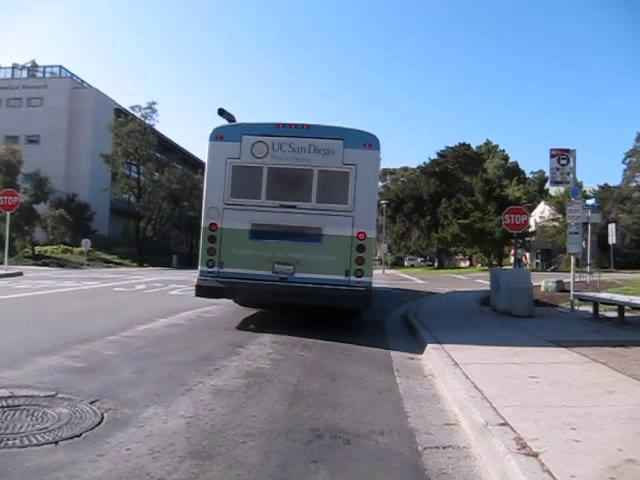stop: (501, 205, 529, 232)
